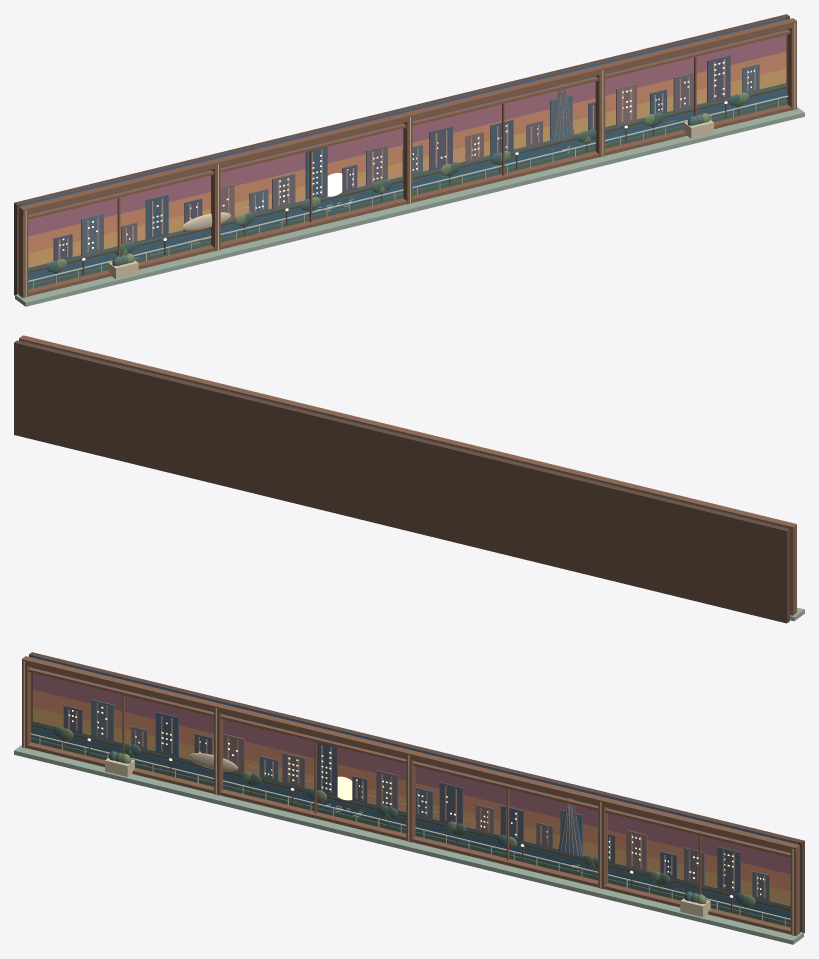
The model's file is park_kitchen_bay_window_dusk.glb.
3 renders of one model, top to bottom at view 1: azimuth 30°, elevation 25°; view 2: azimuth 150°, elevation 25°; view 3: azimuth 330°, elevation 25°, orthographic.
Parts seen in each view (by area): view 1: sky_depth_band_2, window_top_rail, continuous_celadon_stone_sill, bay_water_surface, sky_depth_band_1, window_bottom_rail, recess_dark_oak, window_transom_rail, sky_depth_band_0, sky_depth_band_3, near_baywalk_green_ribbon, far_shore_green (+19 smaller); view 2: recess_dark_oak, window_top_rail, sky_depth_band_3, main_oak_mullion; view 3: sky_depth_band_2, window_top_rail, continuous_celadon_stone_sill, bay_water_surface, sky_depth_band_1, window_bottom_rail, recess_dark_oak, window_transom_rail, sky_depth_band_0, sky_depth_band_3, near_baywalk_green_ribbon, far_shore_green (+20 smaller).
Part boxes in pixels (x1,y1,x2,y2): sky_depth_band_2: (28, 35, 786, 236); window_top_rail: (21, 18, 796, 215); continuous_celadon_stone_sill: (15, 107, 804, 306); bay_water_surface: (28, 88, 786, 284); sky_depth_band_1: (28, 51, 786, 253); window_bottom_rail: (28, 104, 791, 296); recess_dark_oak: (14, 14, 789, 295); window_transom_rail: (28, 29, 790, 219); sky_depth_band_0: (28, 69, 786, 267); sky_depth_band_3: (21, 17, 786, 214); near_baywalk_green_ribbon: (28, 100, 787, 289); far_shore_green: (28, 83, 786, 271); recess_dark_oak: (14, 340, 789, 623); window_top_rail: (19, 335, 796, 532); sky_depth_band_3: (21, 341, 785, 527); main_oak_mullion: (790, 524, 796, 615); sky_depth_band_2: (32, 673, 790, 874); window_top_rail: (22, 656, 798, 853); continuous_celadon_stone_sill: (14, 745, 803, 944); bay_water_surface: (32, 726, 790, 922); sky_depth_band_1: (32, 689, 790, 891); window_bottom_rail: (27, 742, 790, 934); recess_dark_oak: (29, 652, 804, 933); window_transom_rail: (28, 667, 790, 857); sky_depth_band_0: (32, 706, 790, 905); sky_depth_band_3: (32, 655, 797, 852); near_baywalk_green_ribbon: (31, 738, 790, 927); far_shore_green: (32, 721, 790, 909).
Size of the model in its own units: 14.84 by 1.69 by 0.492.
